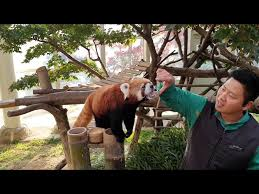redPanda: (61, 70, 162, 148)
